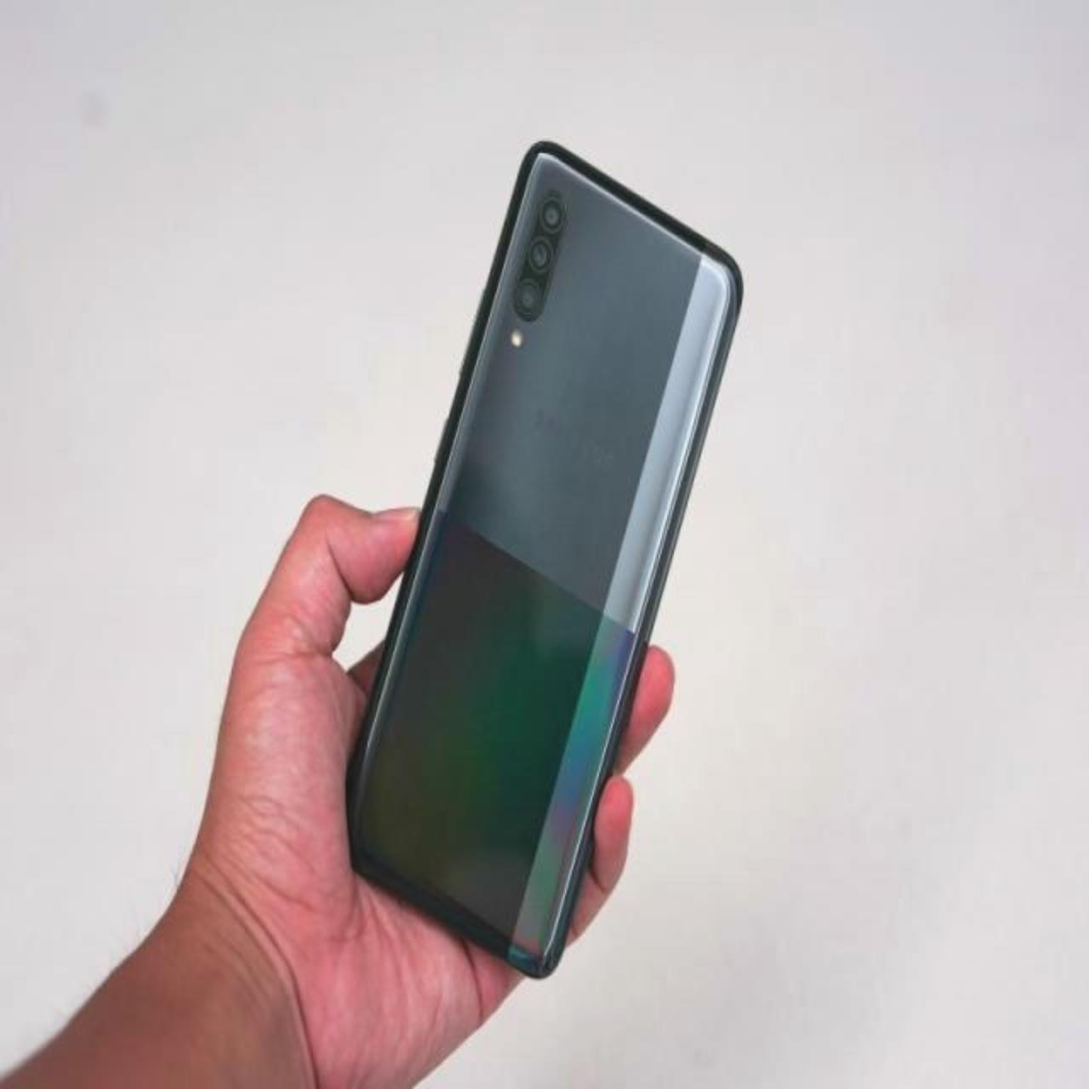phone: (345, 138, 747, 984)
